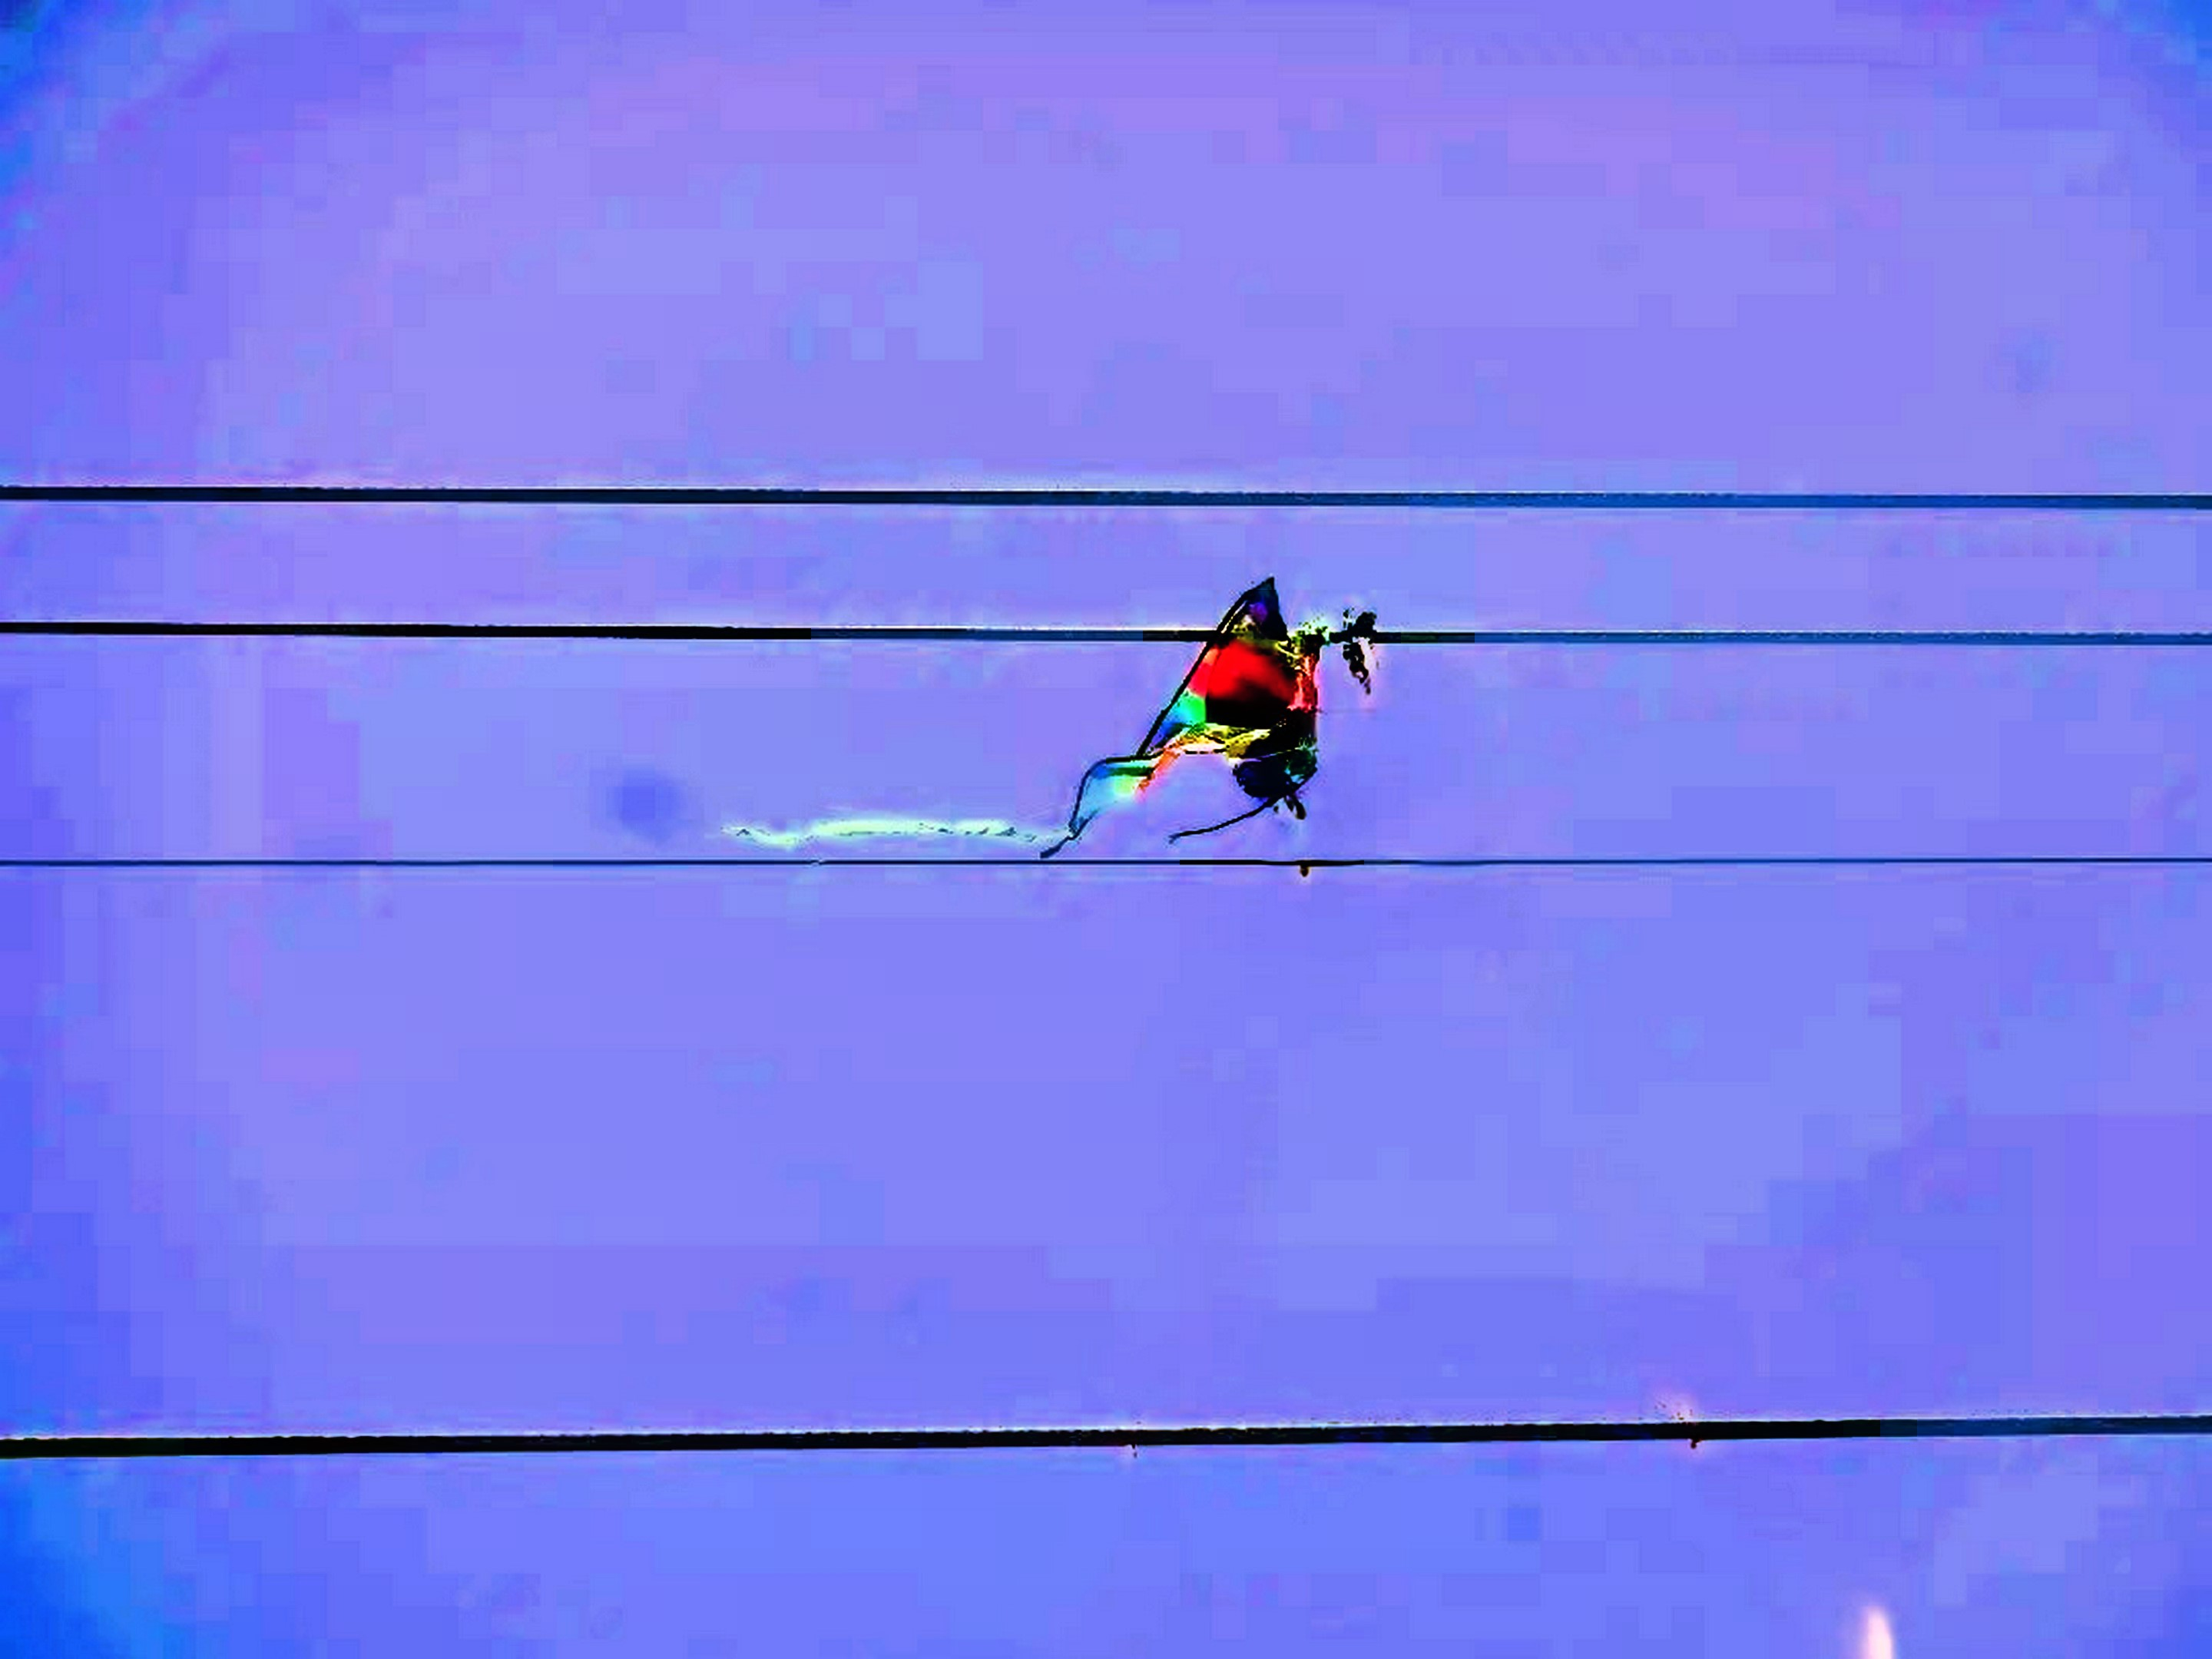wire foreign body: (923, 561, 1428, 880)
